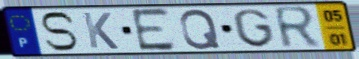E: (128, 7, 178, 53)
G: (231, 8, 278, 49)
K: (80, 11, 121, 51)
Q: (178, 8, 223, 51)
R: (271, 5, 323, 52)
S: (38, 10, 80, 53)
